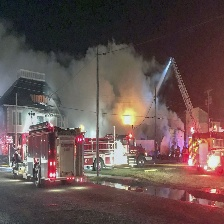fire: (121, 109, 135, 127)
smoke: (1, 39, 196, 131)
